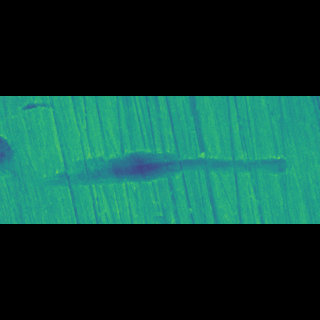Loch: (39, 155, 293, 173)
